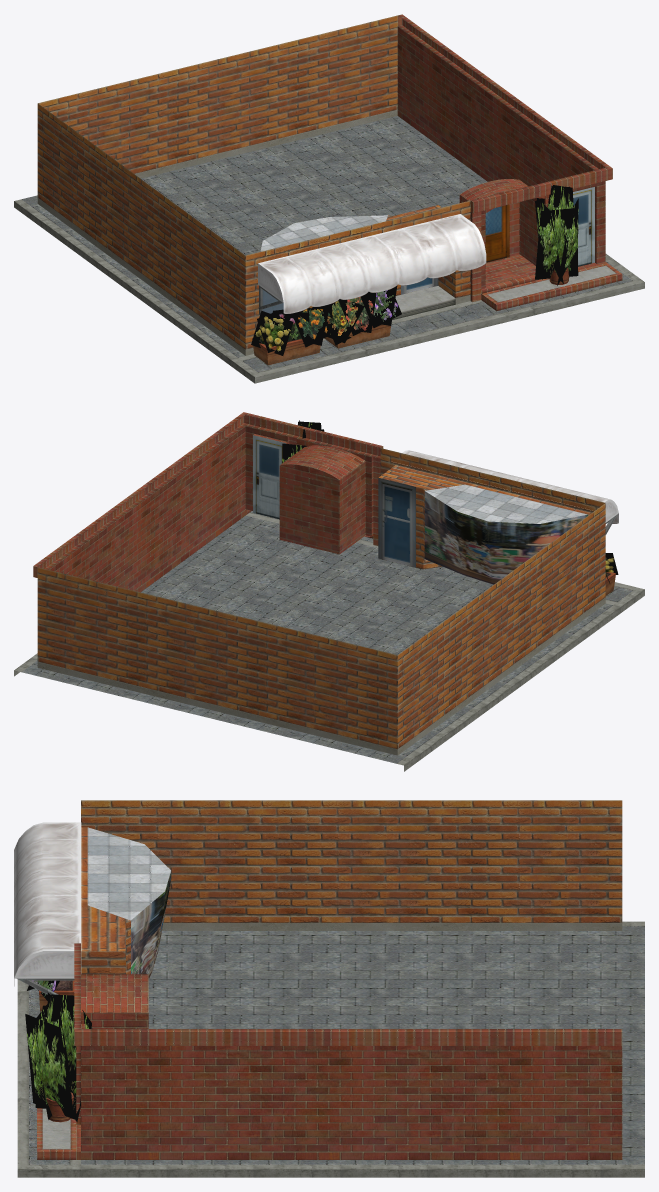
The model's file is HouseA_Base-0.obj.
The picture shows the model from 3 angles, top to bottom: view 1: azimuth 30°, elevation 25°; view 2: azimuth 150°, elevation 25°; view 3: azimuth 270°, elevation 25°; orthographic projection. The views are drawn at different scales.
Visible parts, largest first — view 1: HouseA_Base-0; view 2: HouseA_Base-0; view 3: HouseA_Base-0.
Boxes of the visible parts, x1,y1,x2,y2 form: HouseA_Base-0: [14, 14, 644, 383]; HouseA_Base-0: [14, 412, 644, 771]; HouseA_Base-0: [14, 800, 644, 1177].
Size of the model in its own units: 14.3 by 3.74 by 15.38.
